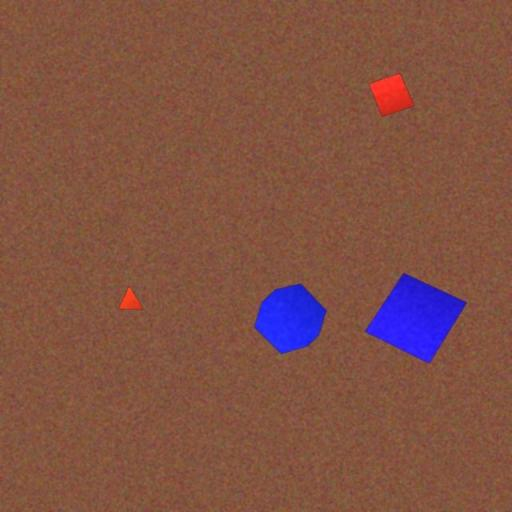BLUE_SQUARE: (364, 272, 468, 364)
RED_SQUARE: (368, 72, 415, 118)
